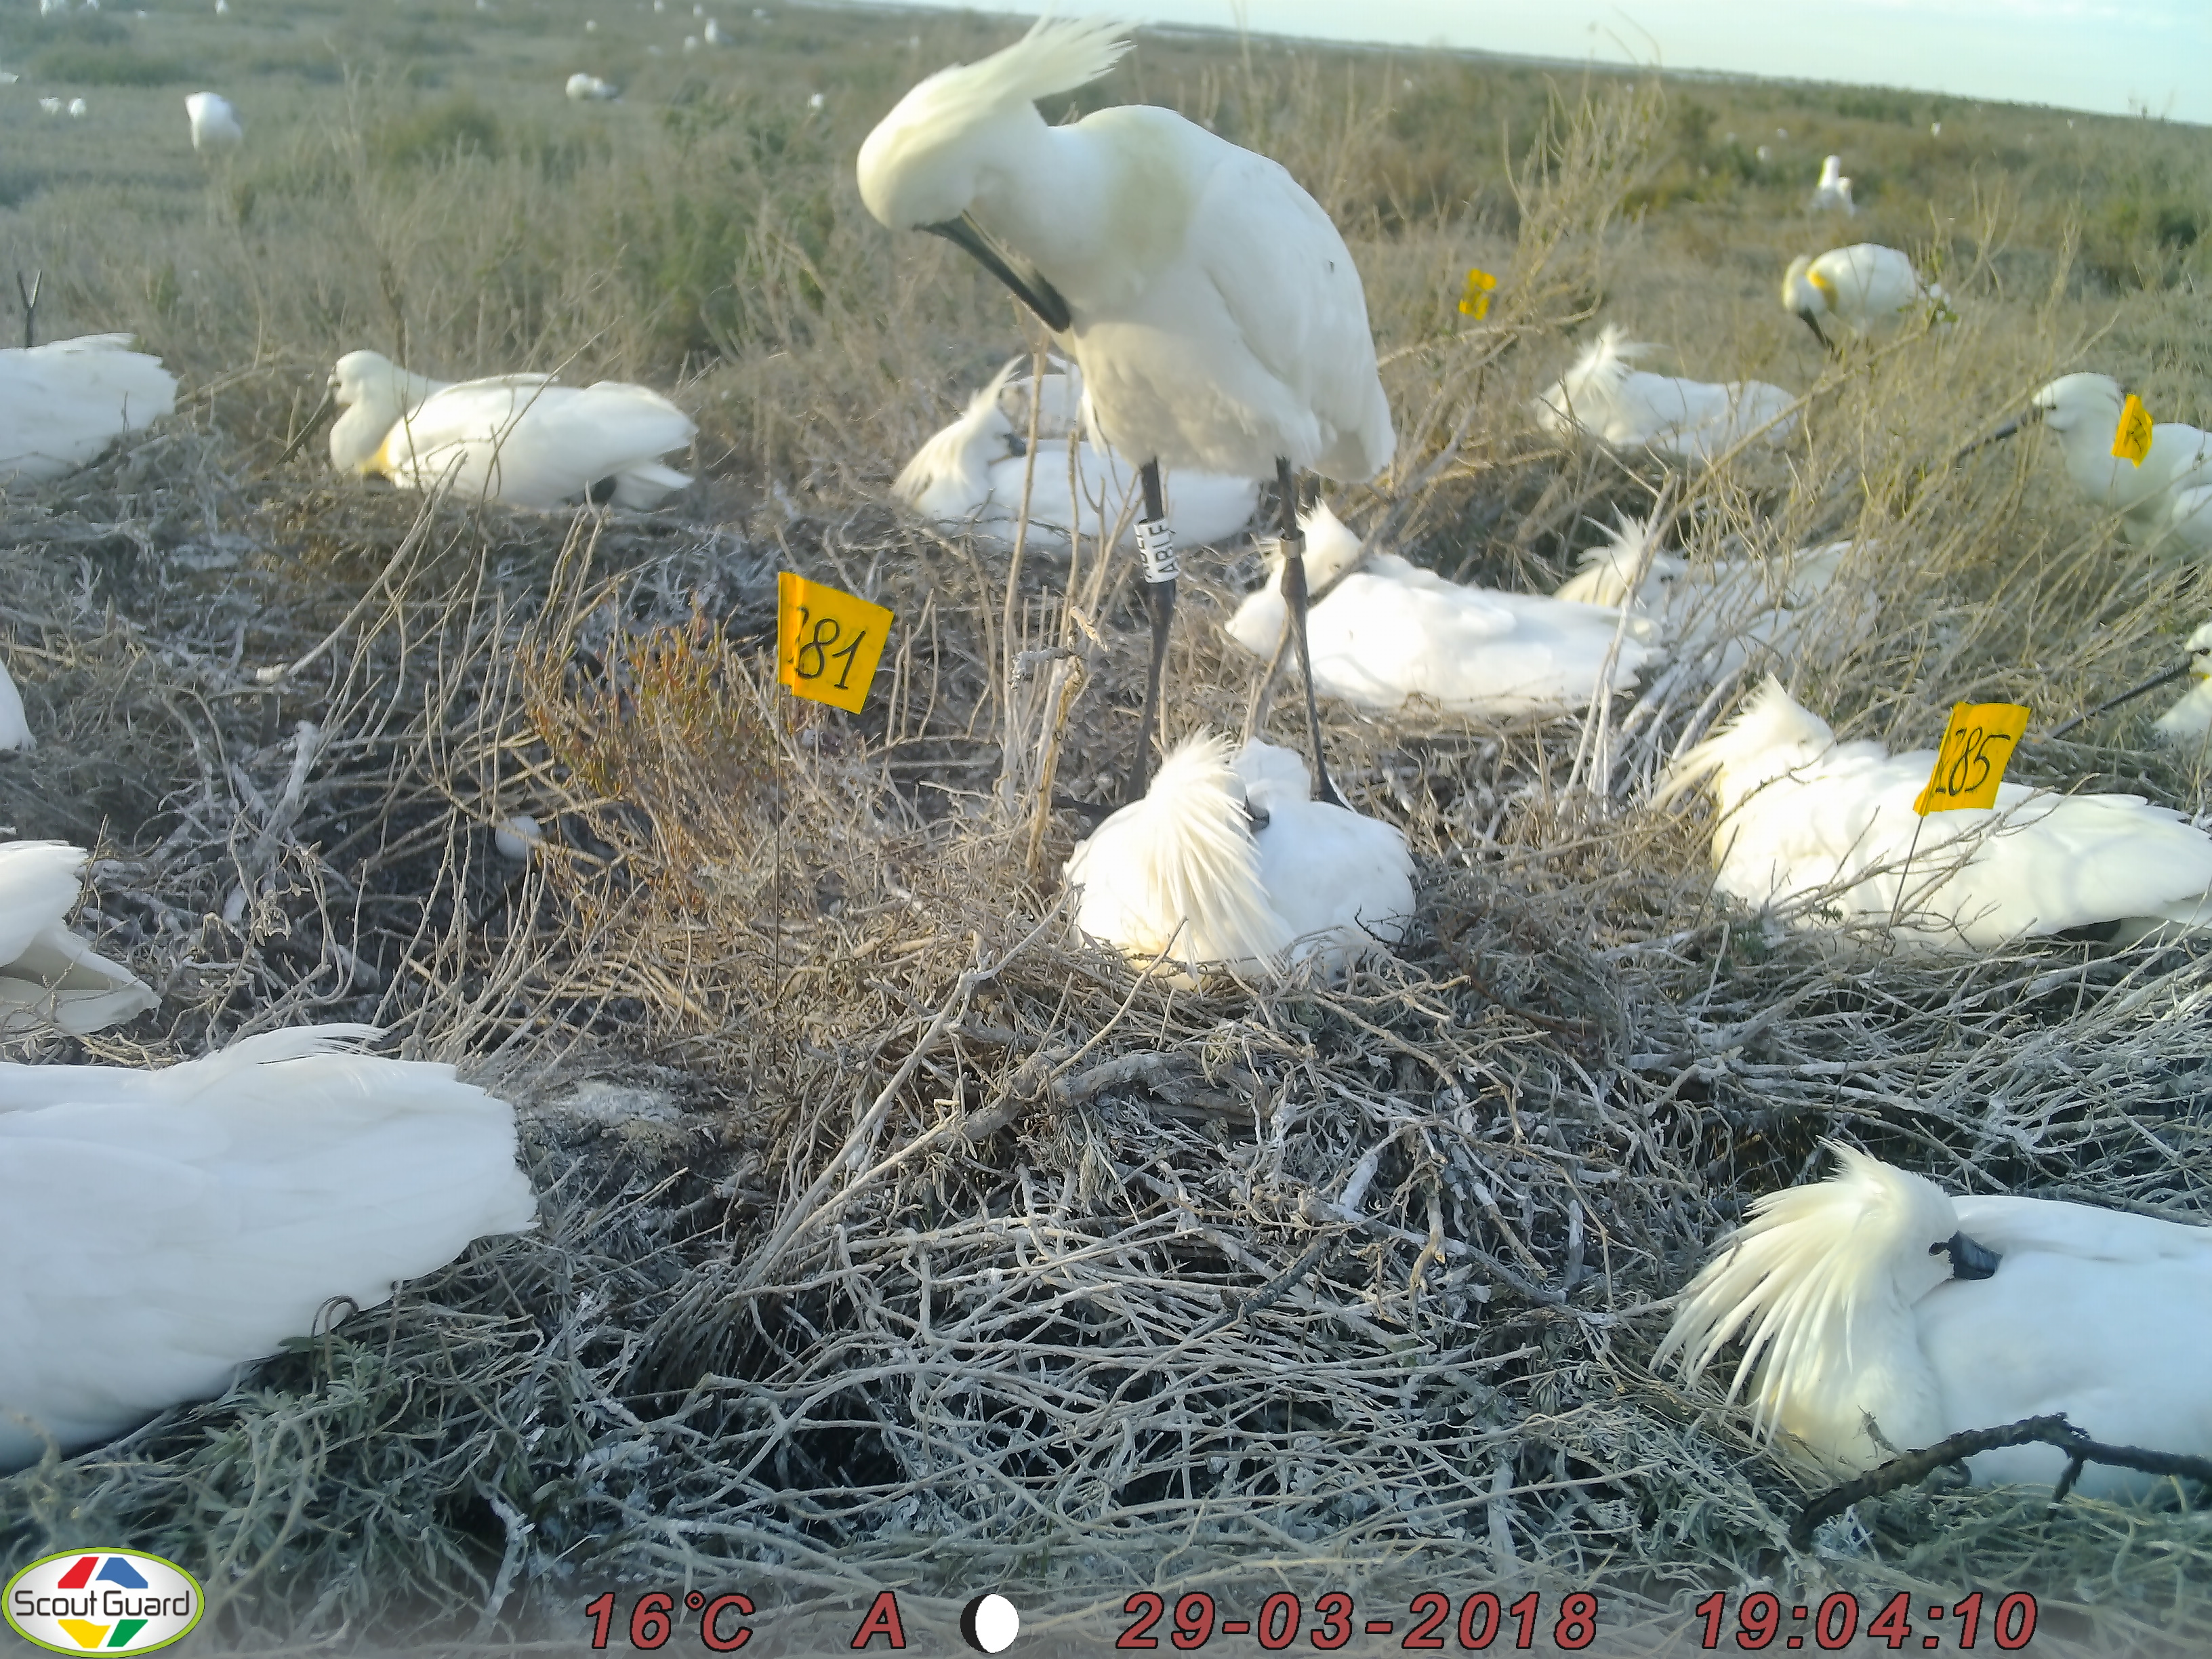tag: (1127, 507, 1188, 596)
